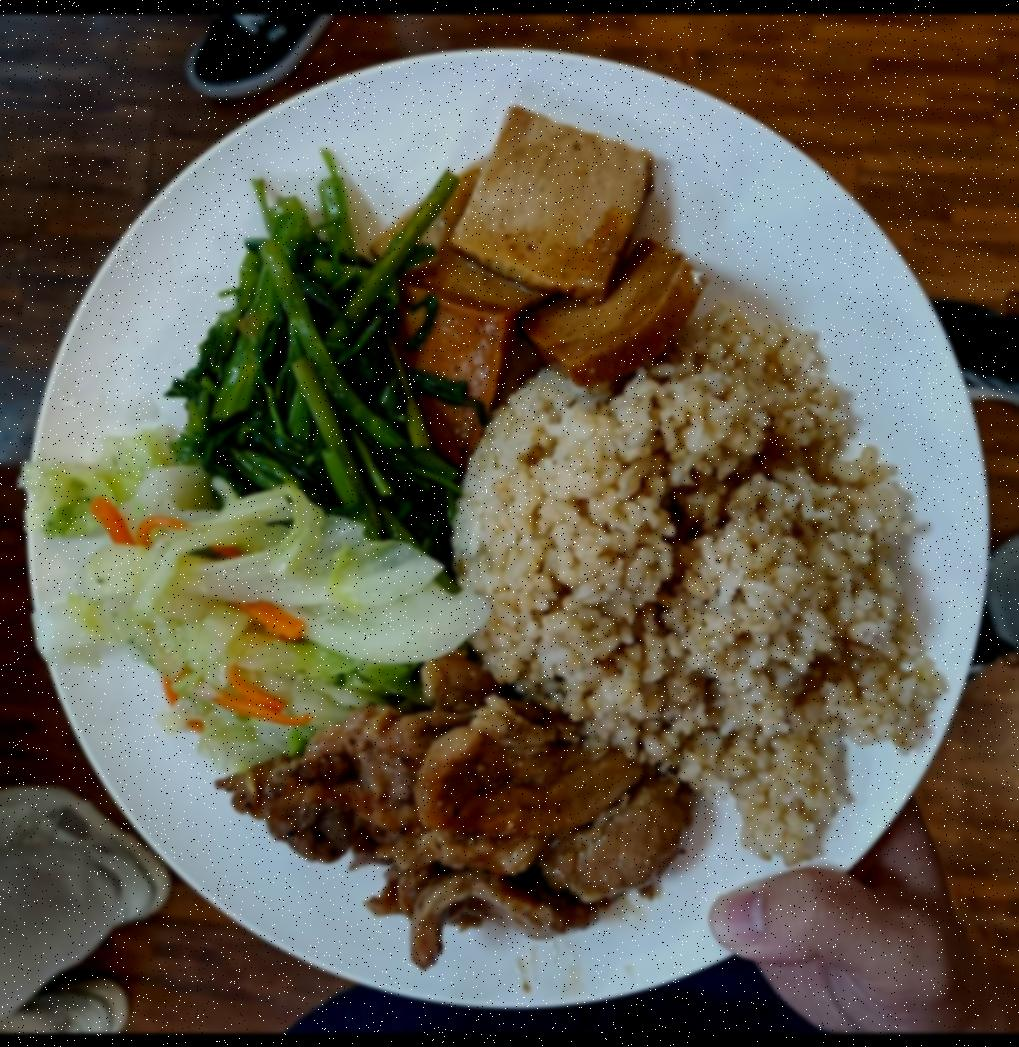big fried chicken leg: (11, 27, 996, 1025)
box: (441, 344, 942, 869)
braised fish fillet: (27, 432, 472, 765), (374, 109, 697, 481), (169, 180, 467, 540)
braised pork: (212, 675, 690, 960)
